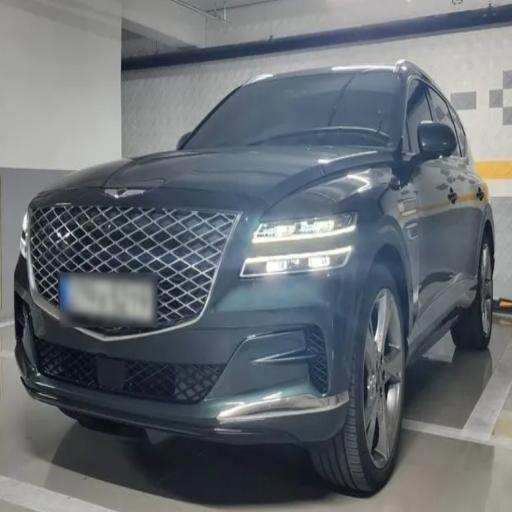normal: (9, 23, 508, 501)
